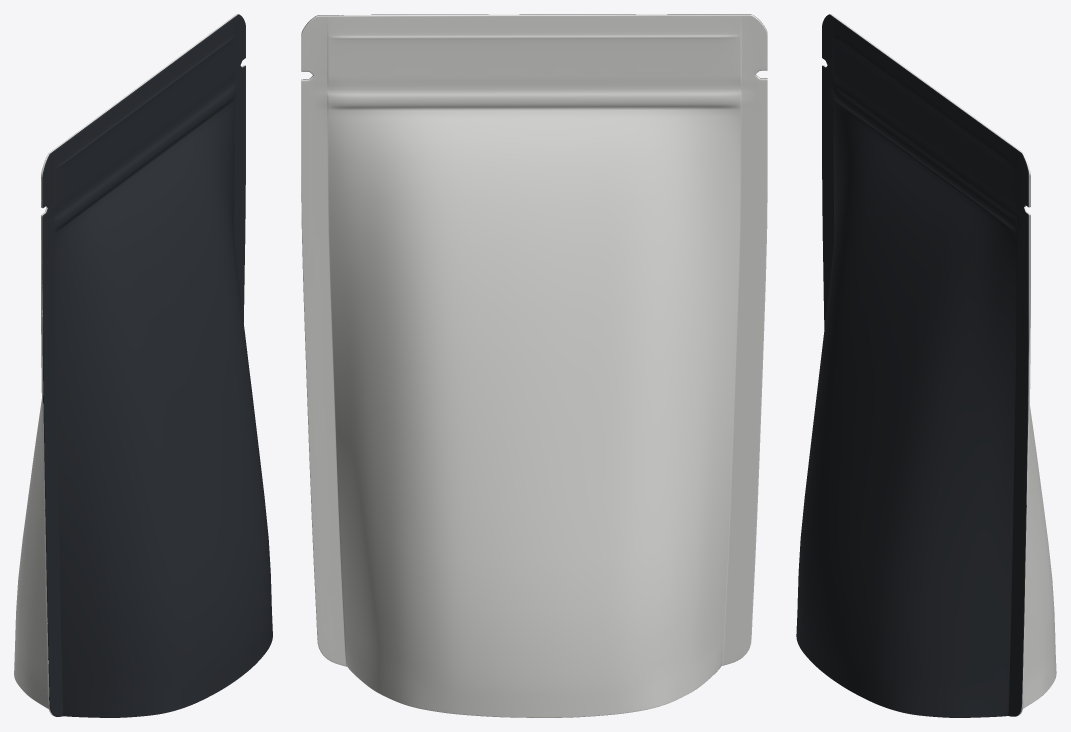
The model's file is 3dpaks-pouch-1792096667029_1792096683310.glb.
3 renders of one model, left to right at view 1: azimuth 30°, elevation 25°; view 2: azimuth 150°, elevation 25°; view 3: azimuth 270°, elevation 25°, orthographic. The views are drawn at different scales.
Parts seen in each view (by area): view 1: Cube002_0; view 2: Cube002_0; view 3: Cube002_0.
Part boxes in pixels (x1=…): Cube002_0: x1=14, y1=14, x2=272, y2=717; Cube002_0: x1=301, y1=14, x2=767, y2=717; Cube002_0: x1=796, y1=14, x2=1056, y2=717.
Bounding box in the file's own units: 113 × 200 × 82.42.
Materials: 3 (3 with a texture image).
